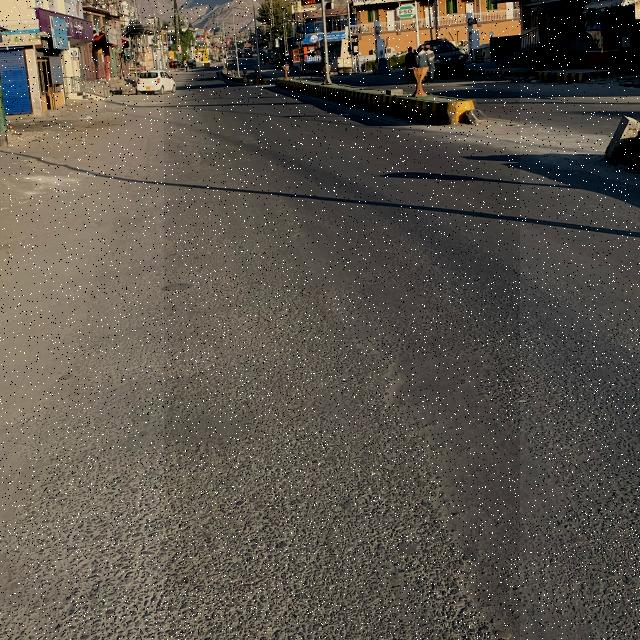straight: (164, 73, 520, 640)
